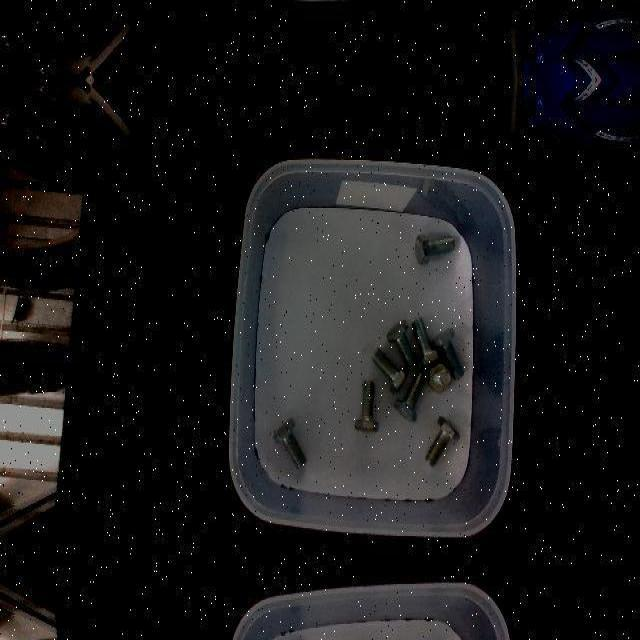screw: (372, 346, 409, 392), (272, 417, 306, 467), (426, 415, 460, 465), (432, 326, 464, 378), (394, 372, 427, 422), (386, 319, 418, 369), (413, 317, 441, 367), (354, 379, 378, 433), (416, 234, 455, 266), (427, 363, 451, 393)
